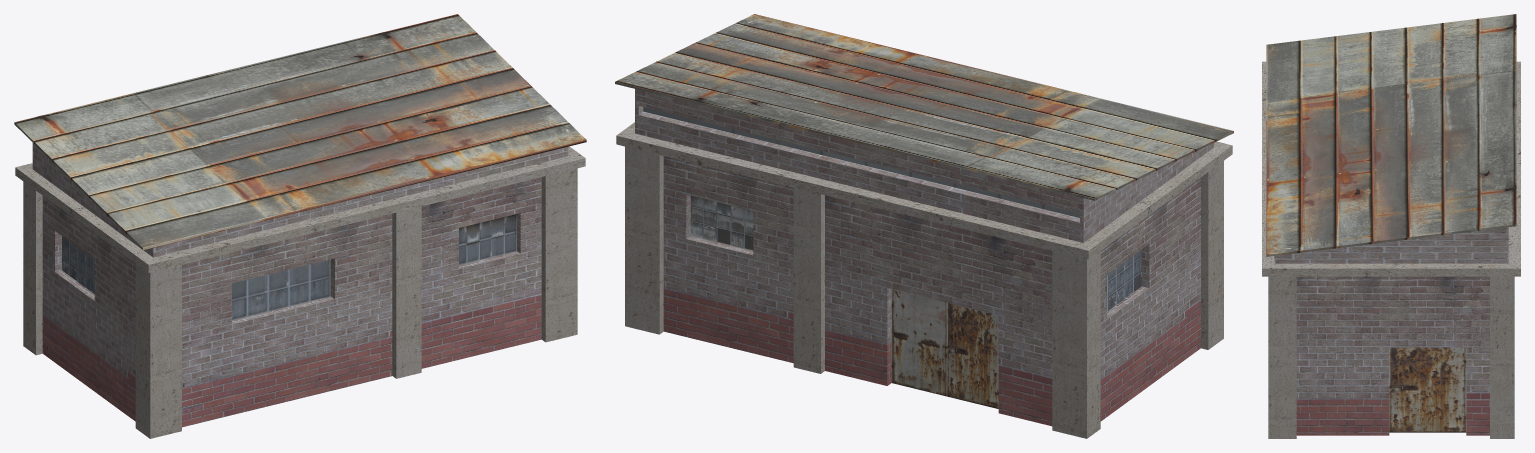
File: house2.fbx
The picture shows the model from 3 angles, left to right: view 1: azimuth 30°, elevation 25°; view 2: azimuth 150°, elevation 25°; view 3: azimuth 270°, elevation 25°; orthographic projection. The views are drawn at different scales.
Visible parts, largest first — view 1: house; view 2: house; view 3: house.
Part boxes in pixels (x1,y1,x2,y2): house: [14, 14, 586, 438]; house: [615, 14, 1233, 438]; house: [1262, 14, 1520, 438].
Bounding box in the file's own units: 6.51 × 3.16 × 3.39.
